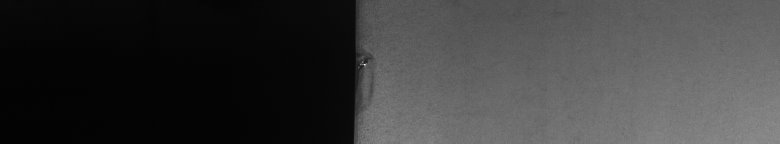hb: (364, 43, 382, 112)
